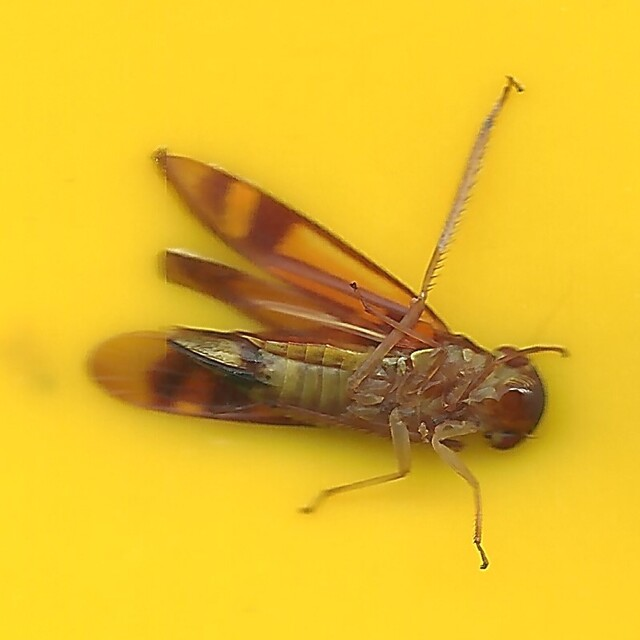Hemiptera: (80, 80, 560, 560)
